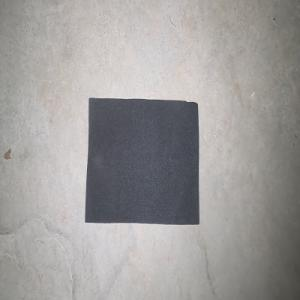PaintChip: (84, 97, 199, 224)
